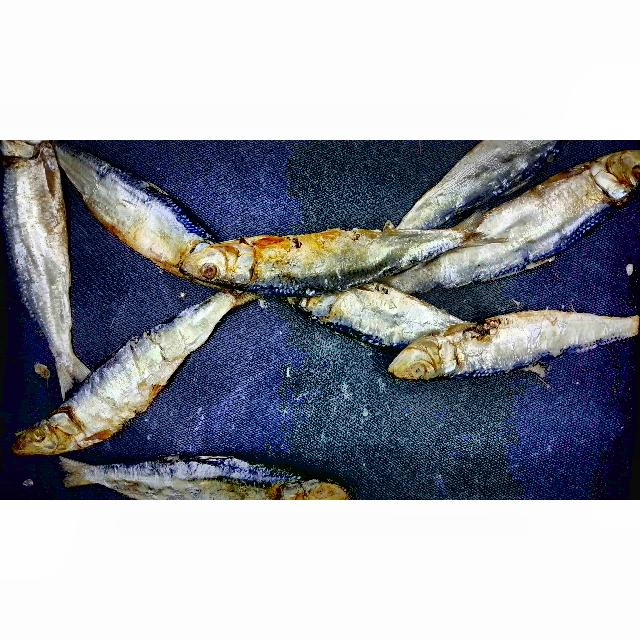Grade_C_Body: (66, 306, 203, 443), (468, 167, 600, 285), (60, 151, 187, 272), (0, 164, 73, 340), (259, 225, 426, 295), (419, 140, 555, 220), (457, 306, 620, 372), (111, 453, 285, 500), (335, 280, 440, 344)
Grade_C_Head: (177, 235, 262, 292), (6, 404, 82, 461), (388, 329, 464, 384), (281, 467, 349, 500)
Grade_C_Tail: (439, 211, 500, 253), (55, 452, 107, 492), (47, 345, 92, 386)
